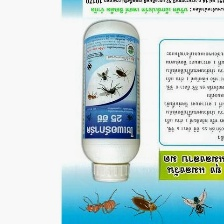insecticide: (78, 18, 143, 184)
